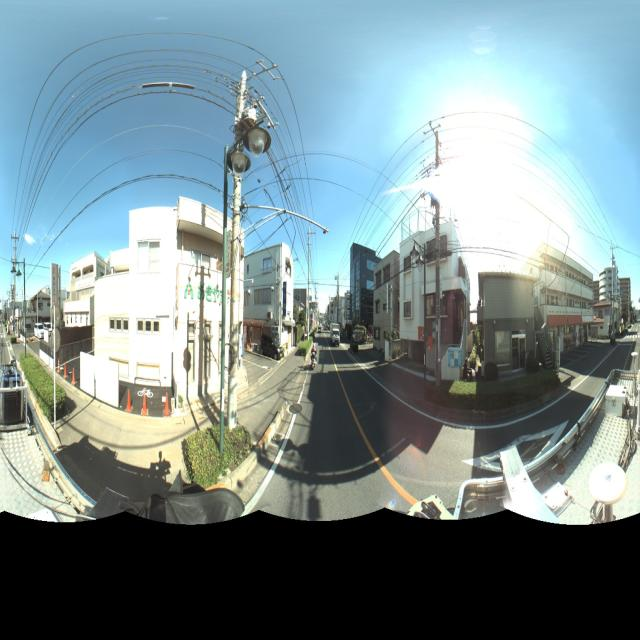b_1: (92, 189, 182, 399), (178, 208, 244, 407), (402, 222, 474, 376), (538, 227, 600, 359), (481, 255, 542, 378), (236, 239, 297, 359), (62, 237, 105, 338), (368, 244, 402, 365), (352, 242, 379, 325), (599, 262, 620, 318), (619, 272, 632, 339)
